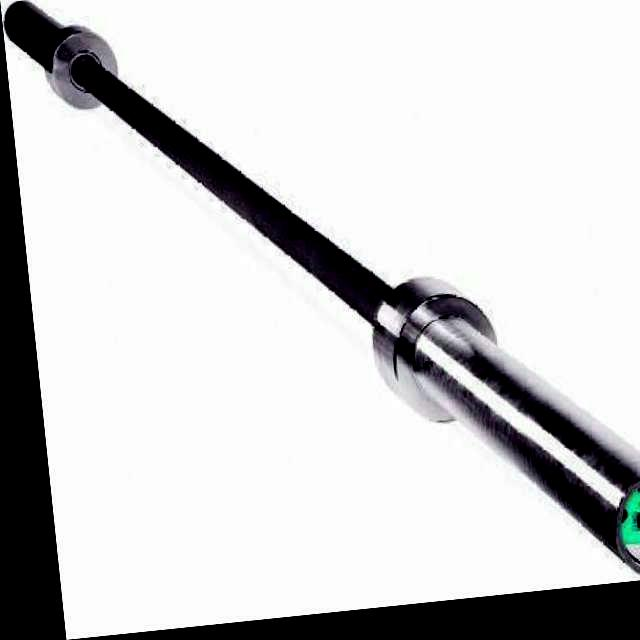barbell: (350, 257, 640, 612)
